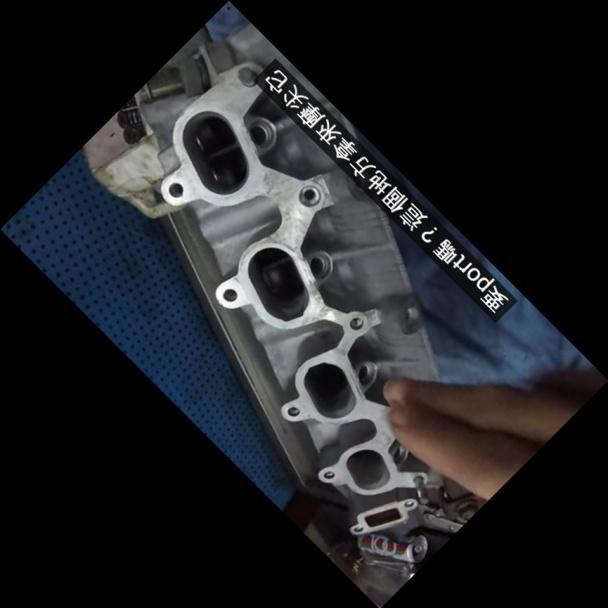hole: (291, 179, 324, 211), (163, 177, 186, 200), (345, 312, 366, 332), (218, 283, 238, 304), (283, 402, 300, 418), (321, 467, 335, 481), (402, 496, 416, 510), (350, 522, 362, 534)
